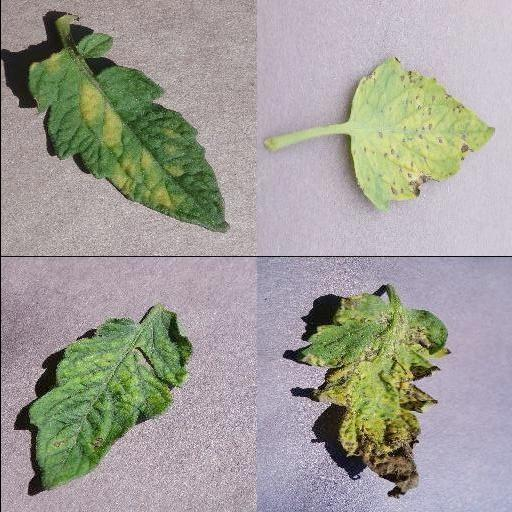Leaf Mold: (28, 48, 230, 234)
Mosaic Virus: (28, 308, 193, 492)
Septoria: (299, 295, 449, 499), (349, 56, 495, 210)
